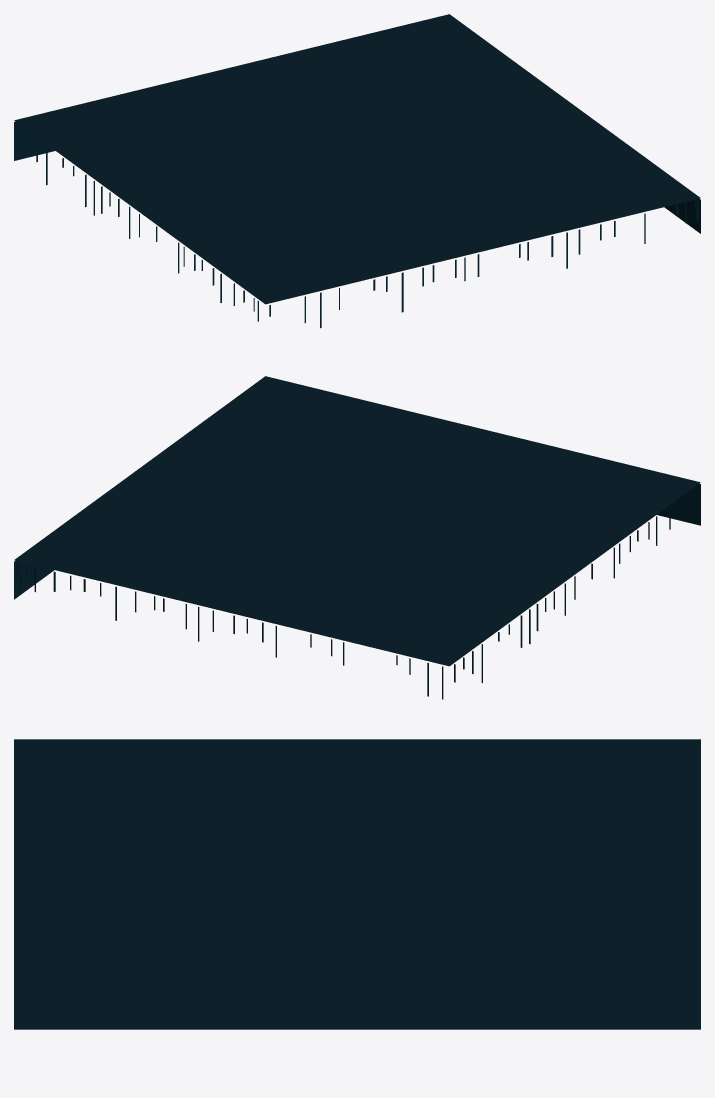
Rendered from floor_v3_8.glb.
The picture shows the model from 3 angles, top to bottom: view 1: azimuth 30°, elevation 25°; view 2: azimuth 150°, elevation 25°; view 3: azimuth 270°, elevation 25°; orthographic projection. The views are drawn at different scales.
Parts seen in each view (by area): view 1: slab_glass, grid_streaks_hang, grid_skirt; view 2: slab_glass, grid_streaks_hang, grid_skirt; view 3: slab_glass.
Boxes of the visible parts, x1,y1,x2,y2 form: slab_glass: [14, 14, 700, 304]; grid_streaks_hang: [18, 125, 698, 328]; grid_skirt: [14, 121, 700, 233]; slab_glass: [14, 376, 700, 666]; grid_streaks_hang: [17, 485, 697, 699]; grid_skirt: [14, 483, 700, 599]; slab_glass: [14, 739, 700, 1029].
Bounding box in the file's own units: 8.03 × 0.78 × 8.
